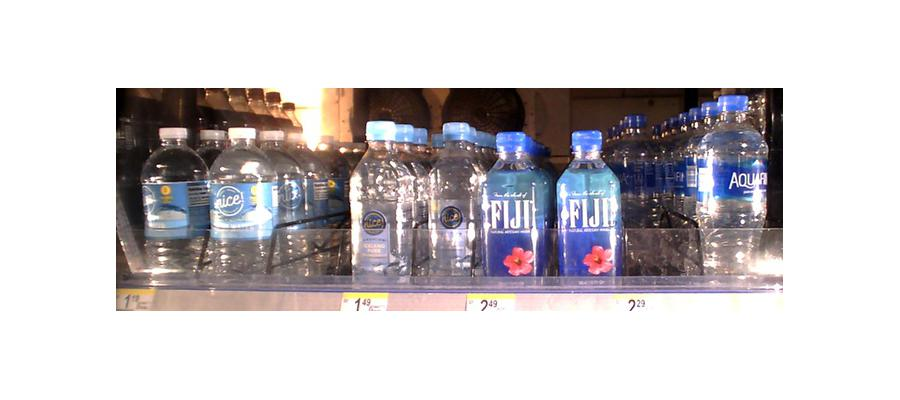bottle: (693, 90, 767, 282), (346, 117, 418, 282), (139, 122, 205, 285), (206, 121, 273, 280), (556, 132, 625, 285), (279, 121, 343, 279), (487, 131, 550, 283), (425, 122, 485, 281)
